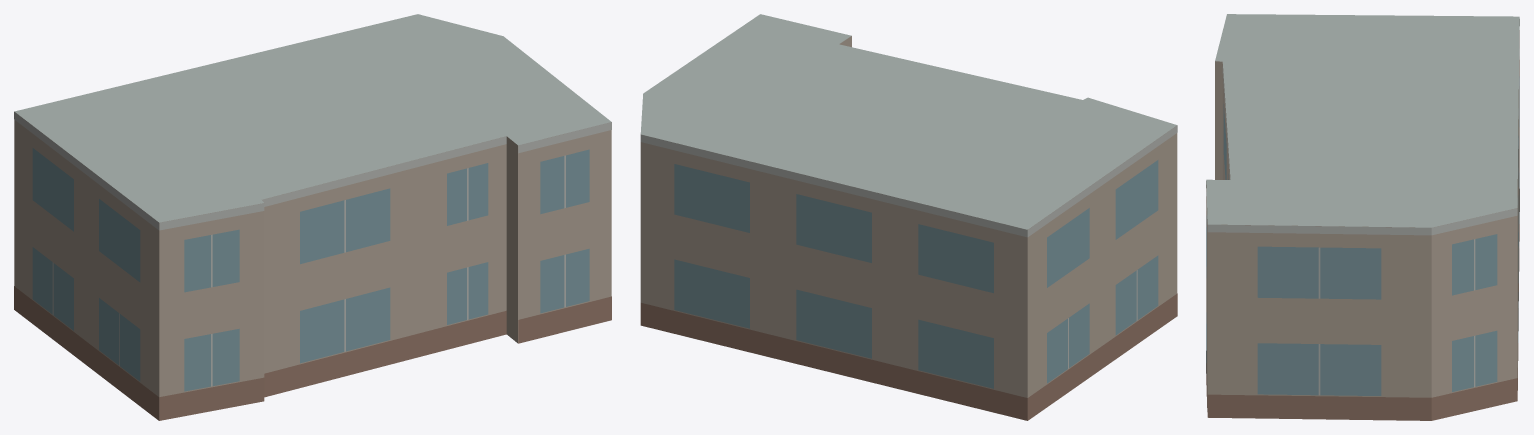
Rendered from survey-upis-33008167.glb.
3 renders of one model, left to right at view 1: azimuth 30°, elevation 25°; view 2: azimuth 150°, elevation 25°; view 3: azimuth 270°, elevation 25°, orthographic. The views are drawn at different scales.
Visible parts, largest first — view 1: survey-upis-33008167.tmp; view 2: survey-upis-33008167.tmp; view 3: survey-upis-33008167.tmp.
Part boxes in pixels (bbox=[...]): survey-upis-33008167.tmp: bbox=[14, 14, 611, 420]; survey-upis-33008167.tmp: bbox=[640, 14, 1177, 420]; survey-upis-33008167.tmp: bbox=[1206, 14, 1519, 420].
Bounding box in the file's own units: 14.48 × 6.1 × 8.98.
